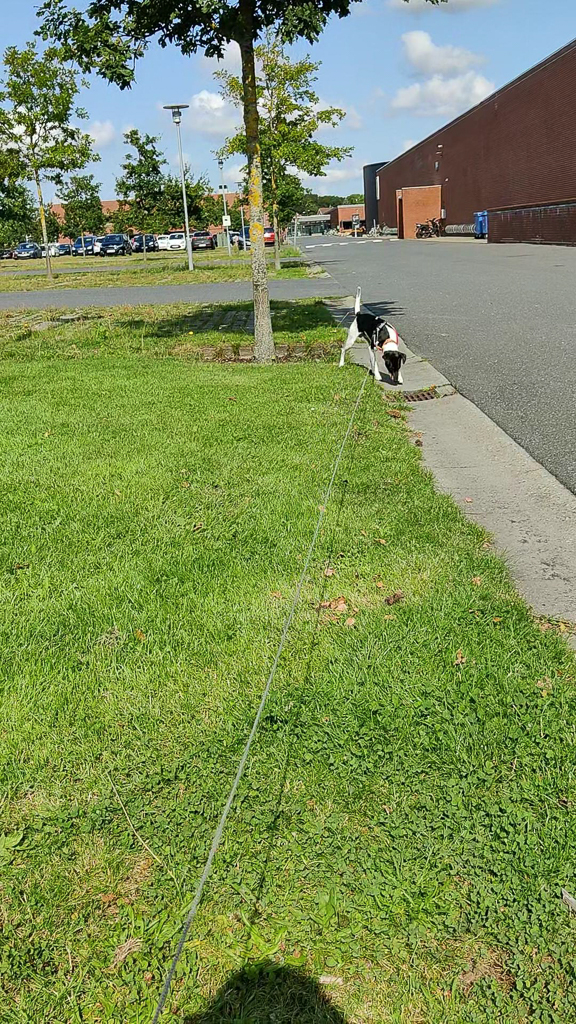Dog: (332, 283, 412, 392)
